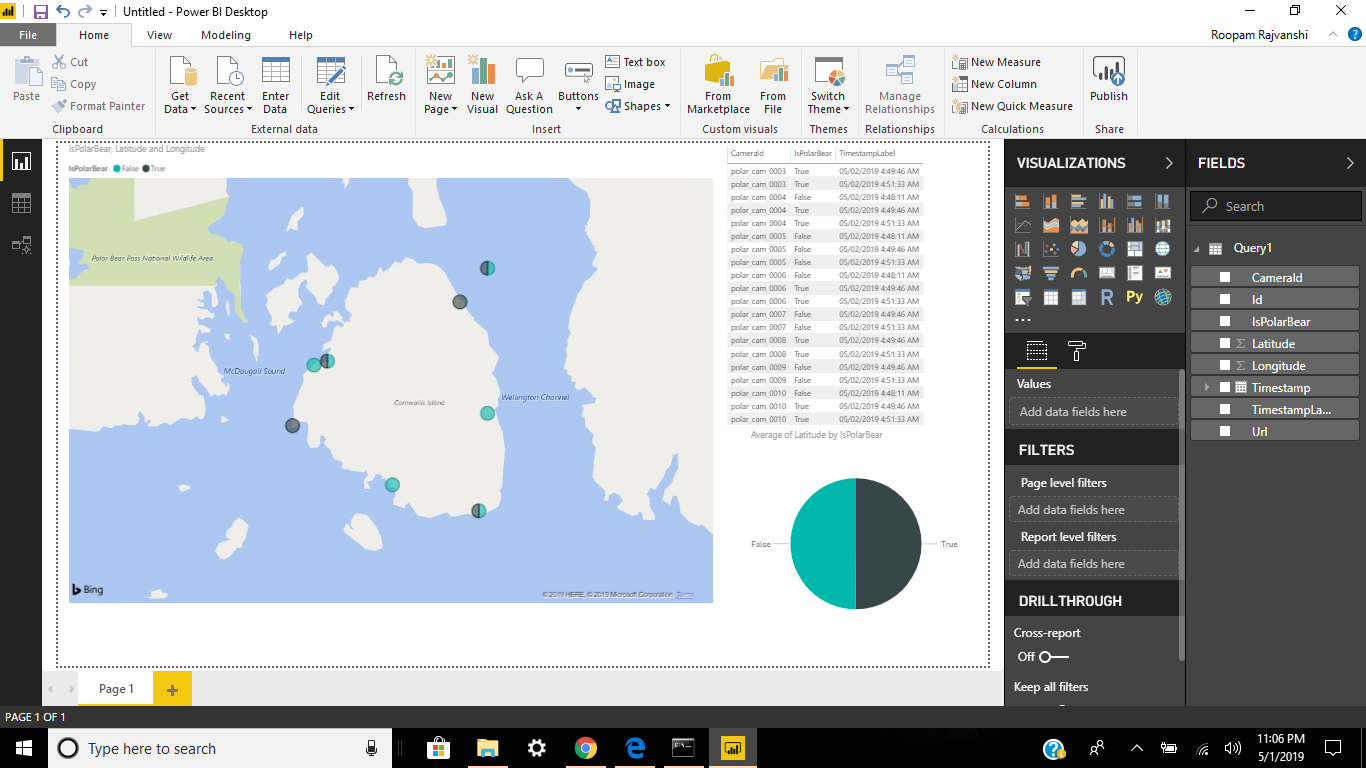

The dashboard page shown, as its layout file describes it:
{"tool":"powerbi","page":{"name":"Polar Bear Activity","canvas":[1280,720],"ordinal":0},"visuals":[{"type":"map","fields":{"X":["Query1.Longitude"],"Y":["Query1.Latitude"],"Series":["Query1.IsPolarBear"]},"box":[9.6,0,896.2,637.4],"z":1},{"type":"tableEx","title":"Camera Activity","fields":{"Values":["Query1.CameraId","Query1.IsPolarBear","Query1.TimestampLabel"]},"box":[927.9,95,352.4,324.9],"z":2},{"type":"pieChart","title":"Proportion of Polar Bear Sightings","fields":{"Category":["Query1.IsPolarBear"],"Y":["CountNonNull(Query1.Latitude)"]},"box":[959.5,419.9,300.1,300.1],"z":3},{"type":"slicer","title":"Show Sightings that are:","fields":{"Values":["Query1.IsPolarBear"]},"box":[959.5,15.1,168,79.8],"z":4}]}

Visuals, with their boxes in screenshot pixels (x1, y1, x2, y2):
map - Query1.Longitude x Query1.Latitude: [38,53,948,700]
"Camera Activity" tableEx: [970,150,1328,480]
"Proportion of Polar Bear Sightings" pieChart: [1002,480,1307,767]
"Show Sightings that are:" slicer: [1002,69,1173,150]
